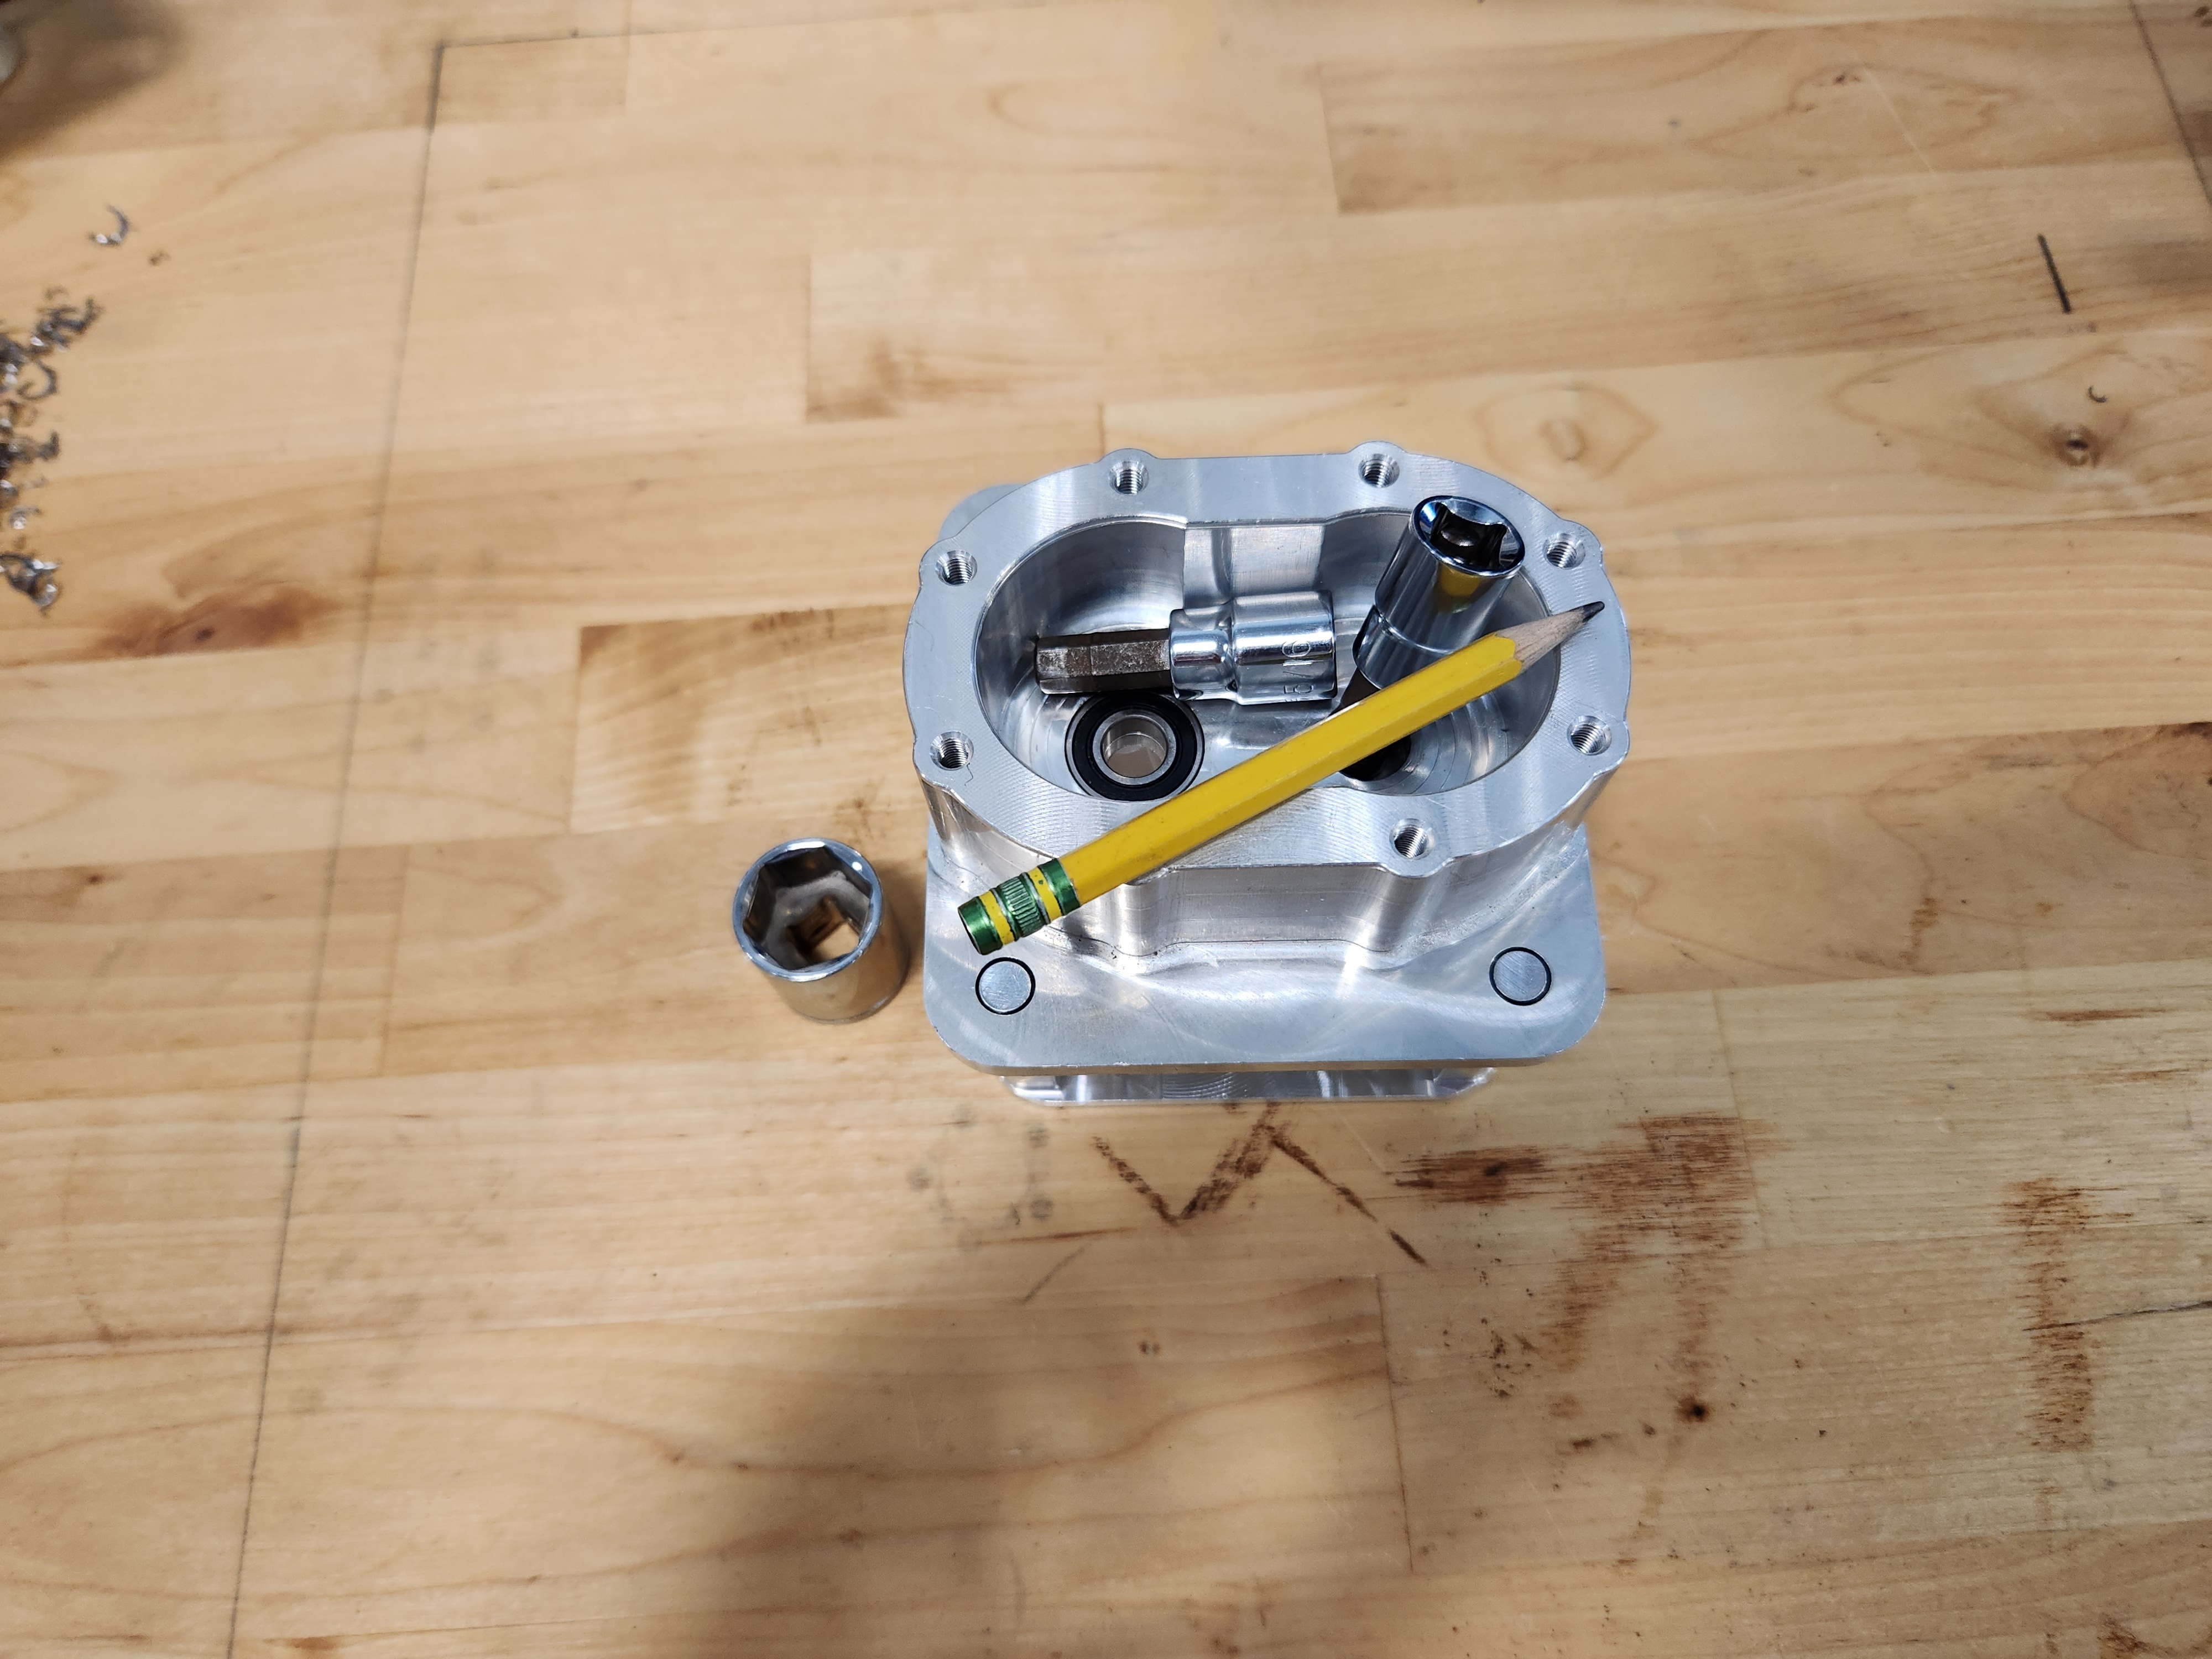Tool Bit: (1334, 486, 1536, 727), (723, 828, 925, 1037), (1028, 586, 1345, 713)
pencil: (949, 592, 1618, 967)
